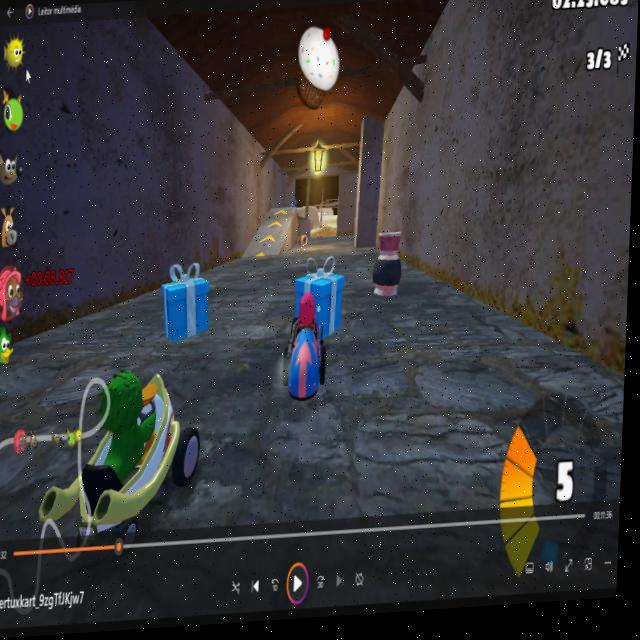bonus: (154, 255, 222, 351), (291, 267, 346, 339)
enemy_kart: (55, 355, 205, 536)
obstacle: (372, 230, 402, 309)
power_up: (271, 211, 286, 236), (253, 249, 271, 262), (259, 233, 277, 244)
track: (205, 377, 624, 538), (331, 326, 584, 391), (0, 388, 58, 539), (224, 253, 289, 360), (349, 291, 482, 338), (79, 309, 154, 356), (0, 350, 57, 390), (293, 231, 359, 258), (321, 226, 336, 245)
